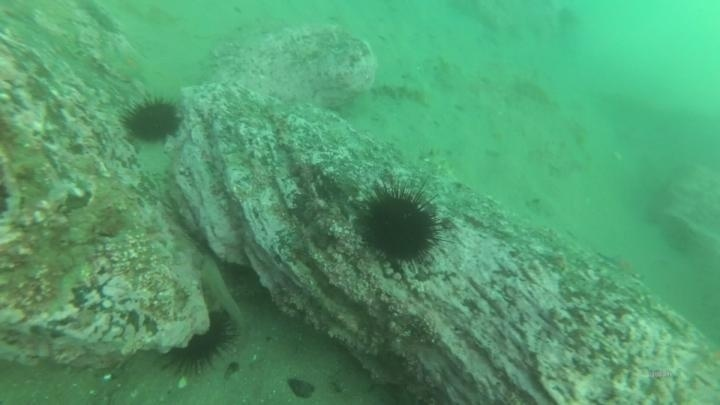echinus: (353, 182, 443, 267), (161, 307, 239, 377), (120, 94, 184, 146)
holothurian: (369, 77, 432, 106)
starfish: (109, 40, 149, 84)
